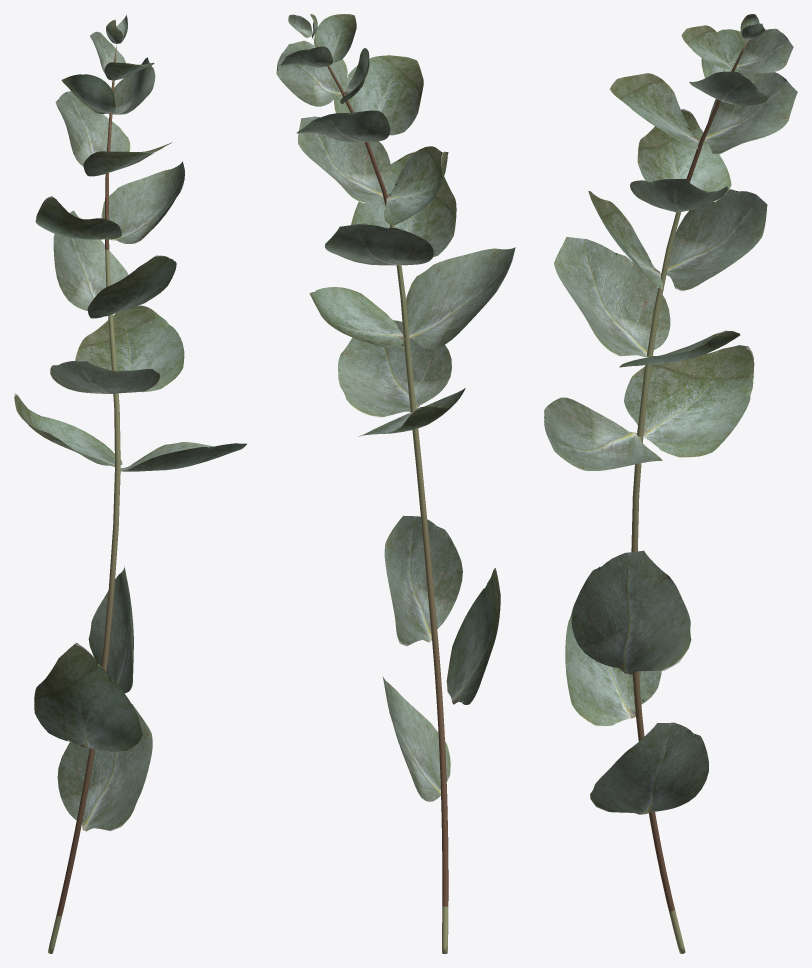
The model's file is topic.glb.
3 renders of one model, left to right at view 1: azimuth 30°, elevation 25°; view 2: azimuth 150°, elevation 25°; view 3: azimuth 270°, elevation 25°, orthographic. The views are drawn at different scales.
Parts seen in each view (by area): view 1: base.002, base.001, base; view 2: base.002, base.001, base; view 3: base.002, base.001, base.
Part boxes in pixels (bbox=[...]): base.002: bbox=[50, 14, 246, 831]; base.001: bbox=[14, 19, 184, 751]; base: bbox=[48, 45, 120, 953]; base.002: bbox=[276, 14, 515, 801]; base.001: bbox=[309, 14, 500, 704]; base: bbox=[313, 38, 448, 953]; base.002: bbox=[544, 23, 797, 814]; base.001: bbox=[565, 14, 760, 726]; base: bbox=[631, 40, 747, 953].
Bounding box in the file's own units: 29.58 × 146 × 33.98.
3 materials, 3 textured.
